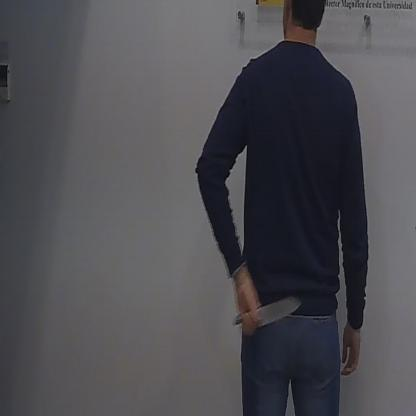knife: (229, 286, 304, 345)
